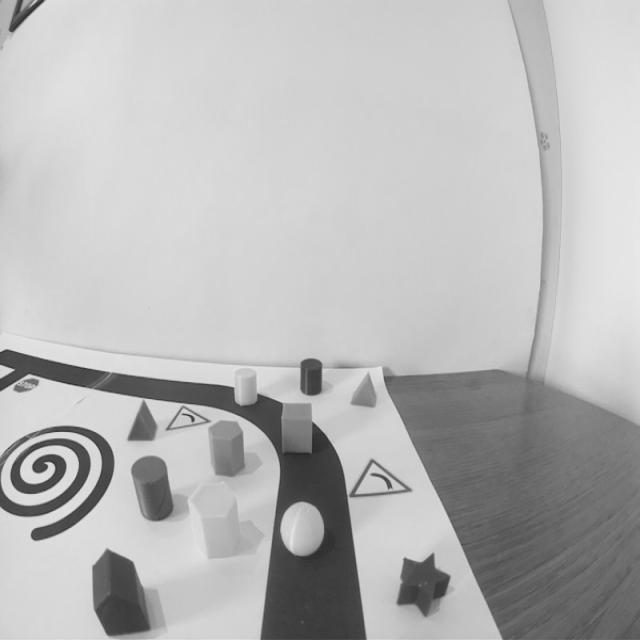ball: (277, 498, 328, 564)
cube: (277, 398, 317, 459)
cylinder: (130, 452, 178, 527), (232, 364, 258, 411), (298, 355, 325, 398)
hexagon: (187, 478, 250, 564), (205, 418, 250, 479)
home: (86, 541, 154, 640)
laneLeftTurn: (253, 414, 373, 640)
nest: (0, 416, 118, 553)
star: (394, 546, 456, 618)
triangle: (125, 396, 162, 446), (346, 368, 381, 412)
